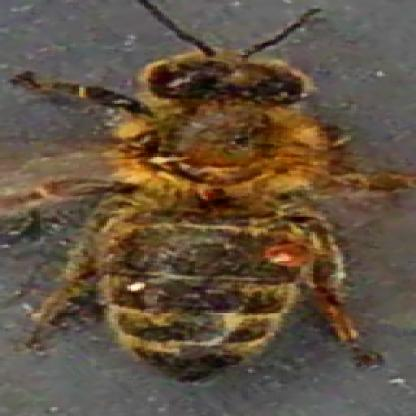bee: (86, 45, 336, 374)
vaoora: (260, 242, 308, 269)
